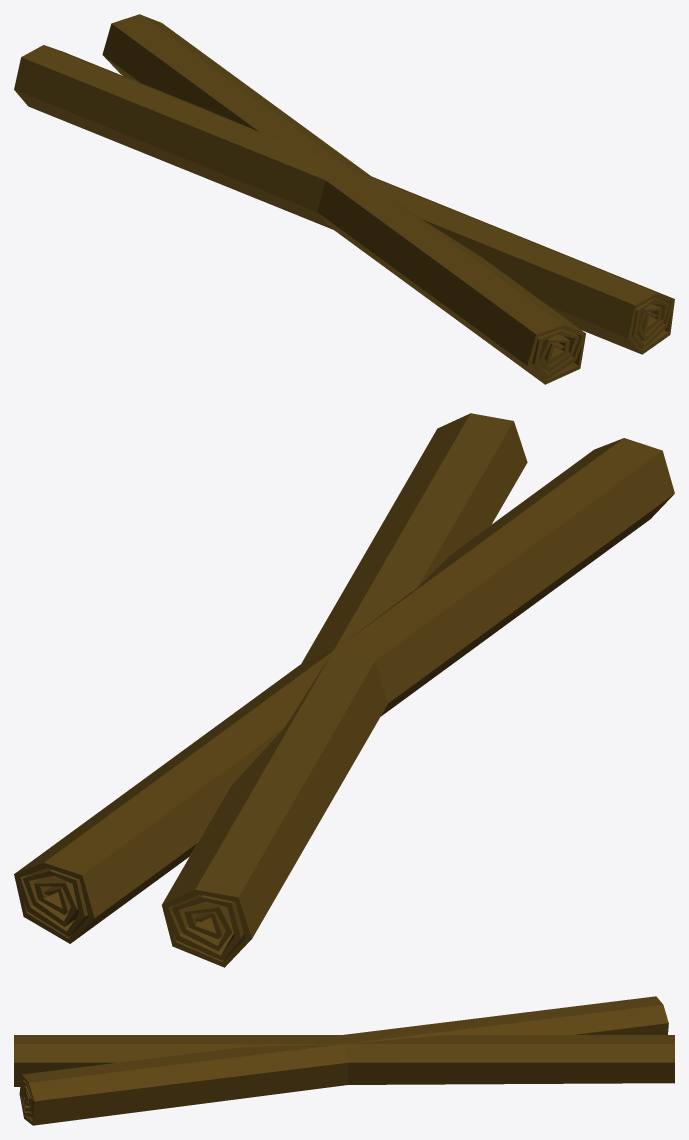
The model's file is Cinnamon.fbx.
The picture shows the model from 3 angles, top to bottom: view 1: azimuth 30°, elevation 25°; view 2: azimuth 150°, elevation 25°; view 3: azimuth 270°, elevation 25°; orthographic projection. The views are drawn at different scales.
Visible parts, largest first — view 1: Cube.001, Cube; view 2: Cube, Cube.001; view 3: Cube.001, Cube.
Part boxes in pixels (x1,y1,x2,y2): Cube.001: [14, 45, 674, 354]; Cube: [102, 14, 585, 384]; Cube: [14, 438, 674, 943]; Cube.001: [161, 413, 527, 967]; Cube.001: [19, 996, 668, 1125]; Cube: [14, 1035, 674, 1086].
Size of the model in its own units: 121 by 24.21 by 340.
